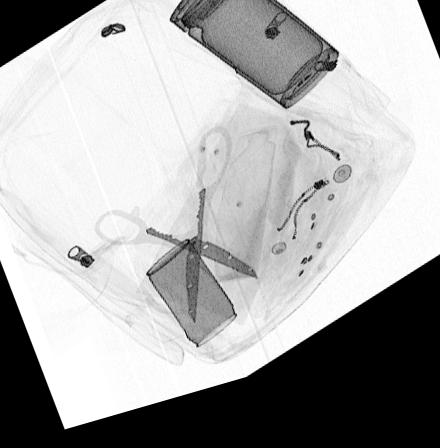Scissors: (91, 137, 258, 337)
